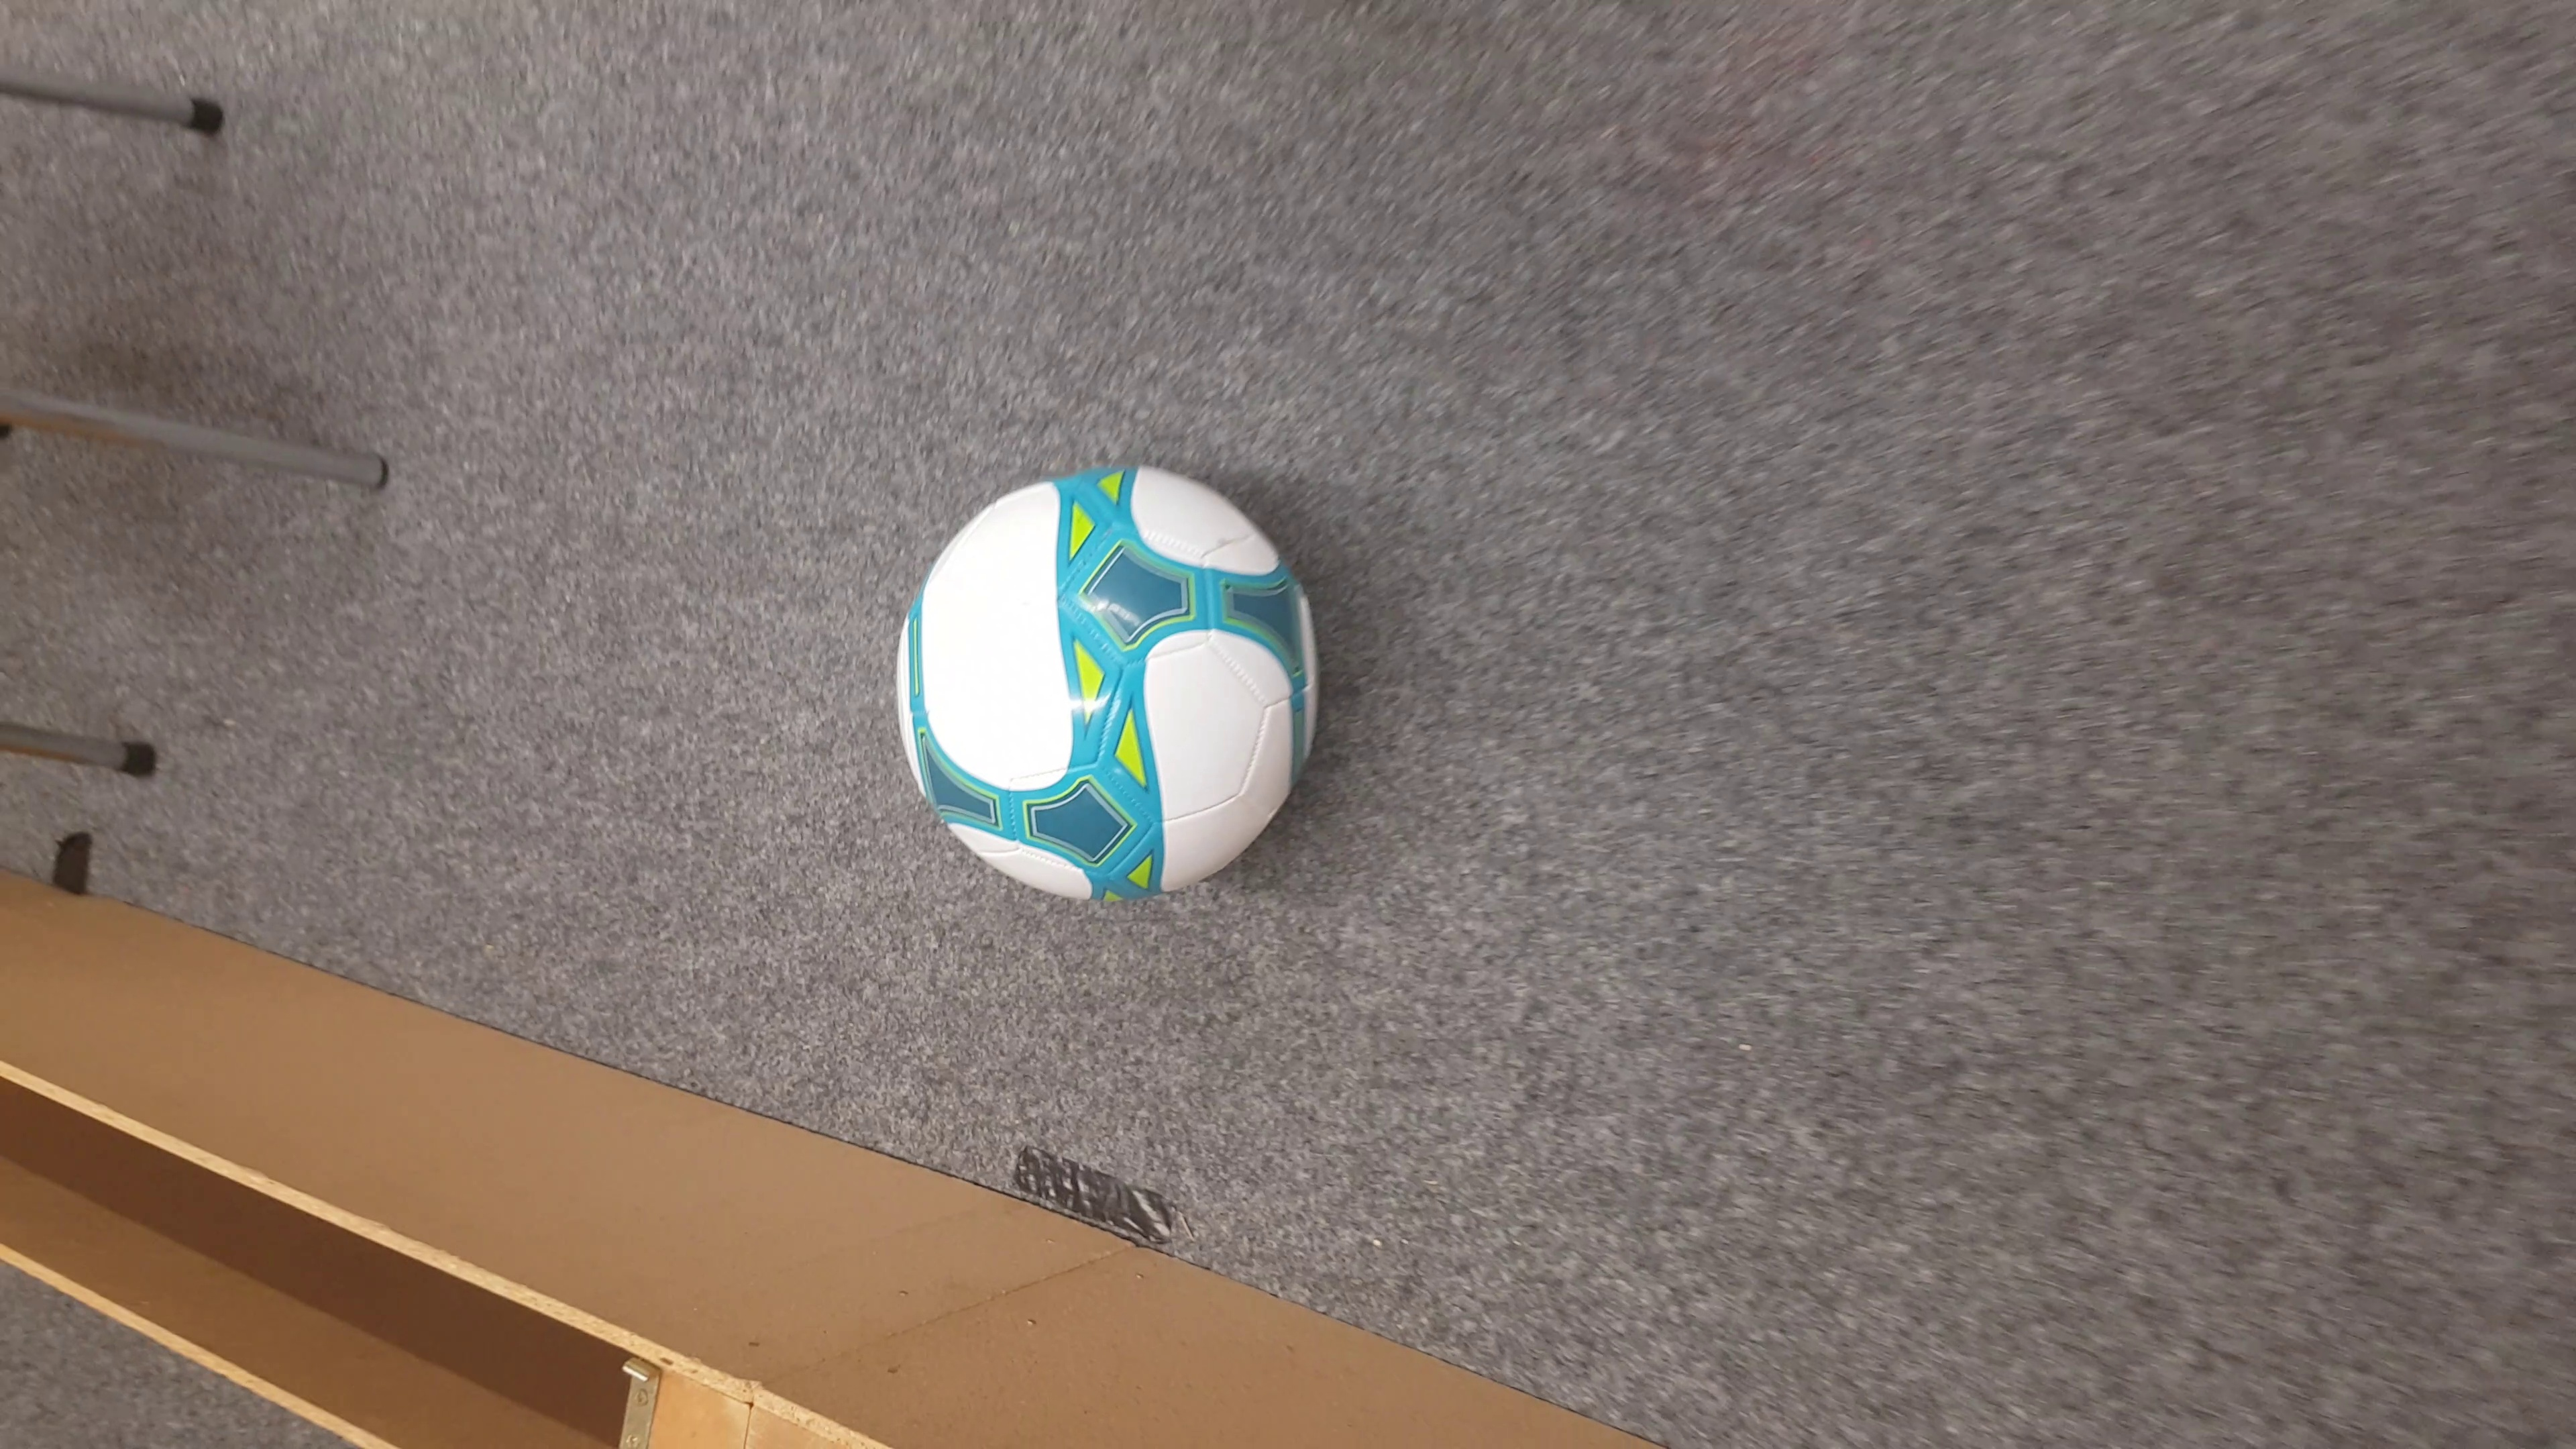kick: (881, 472, 1329, 904)
